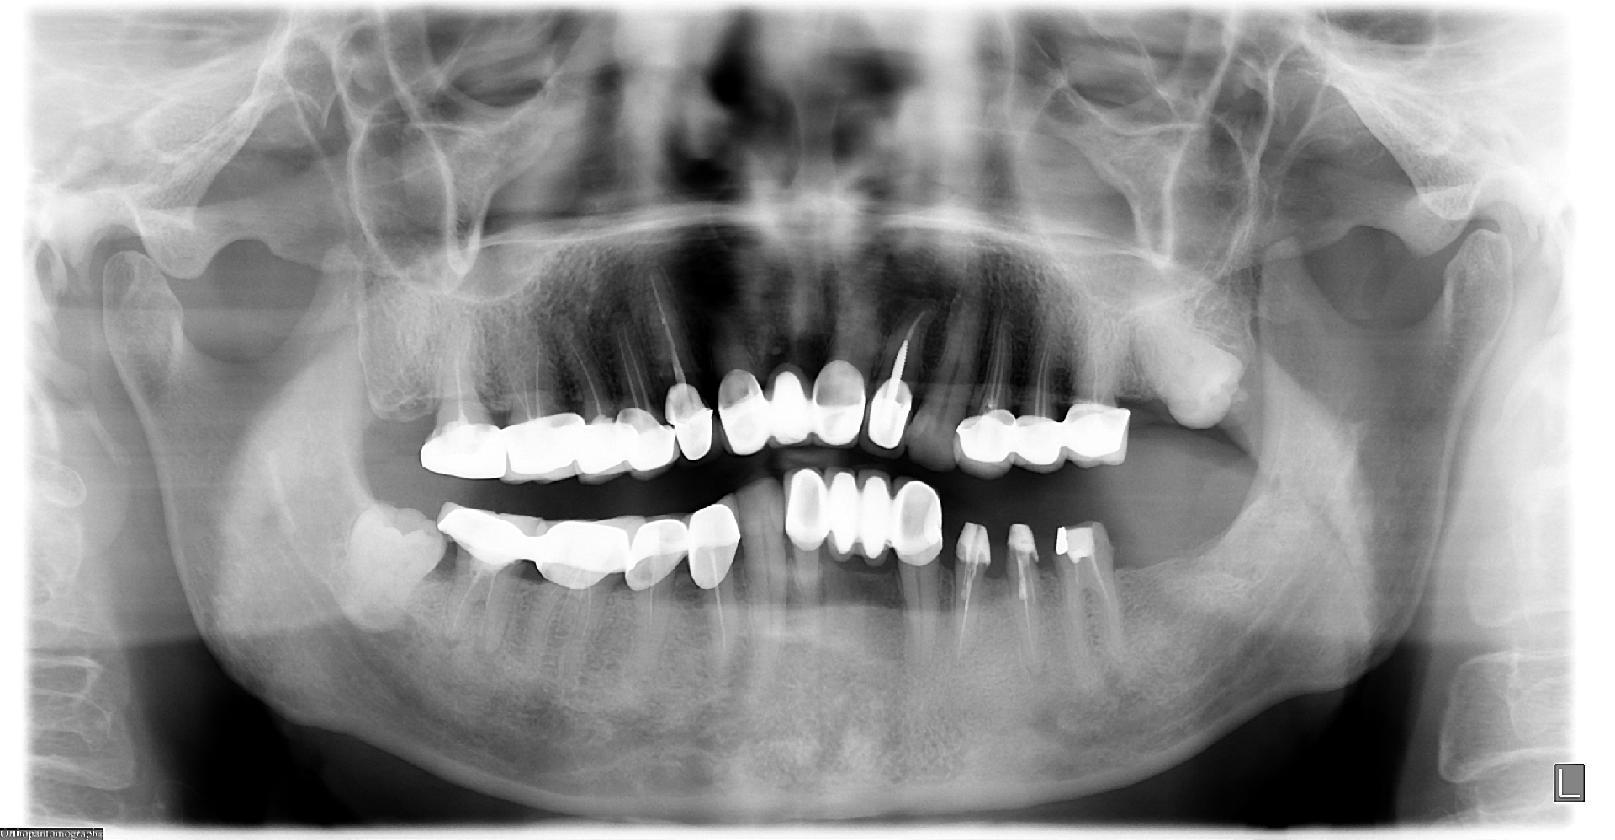Vertical: (332, 492, 445, 640)
